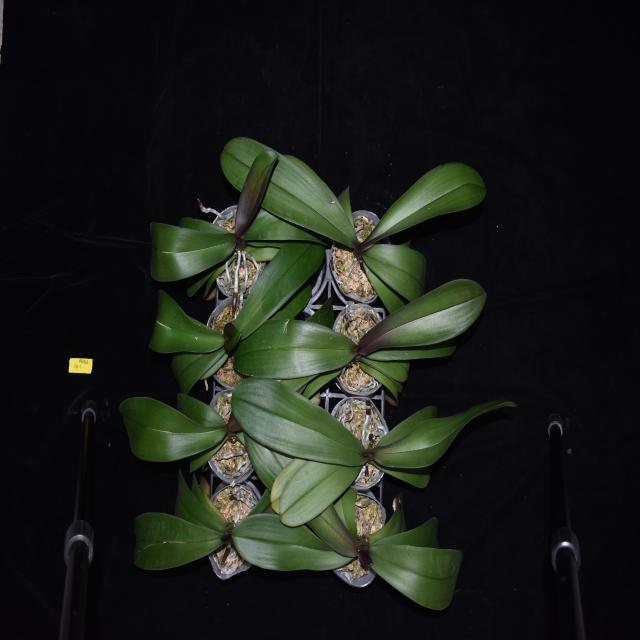leaf: (218, 135, 360, 254), (372, 389, 524, 485), (230, 376, 374, 466), (360, 156, 488, 252), (222, 236, 328, 347), (348, 274, 484, 352), (227, 319, 357, 396), (117, 394, 226, 467), (366, 542, 464, 615), (230, 514, 349, 567), (142, 218, 234, 284), (122, 513, 230, 568), (359, 240, 430, 317), (280, 456, 359, 524), (148, 290, 223, 359), (228, 142, 279, 242), (176, 467, 227, 539), (308, 504, 364, 562), (372, 520, 444, 556), (172, 348, 230, 390), (174, 383, 225, 423), (270, 453, 310, 502), (355, 355, 400, 398), (247, 434, 287, 480), (360, 351, 419, 382), (332, 479, 361, 537), (365, 499, 408, 538), (222, 317, 240, 352)
